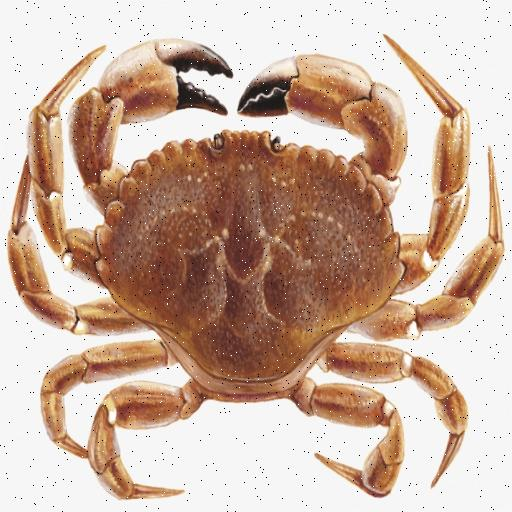joe crab: (1, 0, 512, 490)
